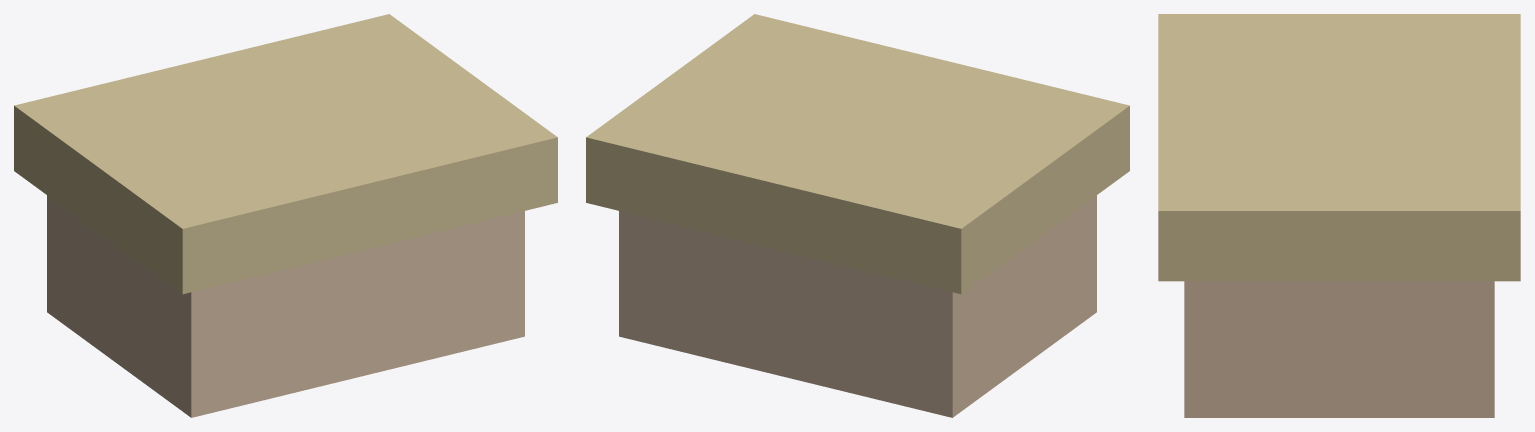
Rendered from village_house.glb.
3 views of the same model, side by side, from view 1: azimuth 30°, elevation 25°; view 2: azimuth 150°, elevation 25°; view 3: azimuth 270°, elevation 25° (orthographic). The views are drawn at different scales.
Parts seen in each view (by area): view 1: ThatchRoof_Node, Walls_Node; view 2: ThatchRoof_Node, Walls_Node; view 3: ThatchRoof_Node, Walls_Node.
Boxes of the visible parts, x1=… form: ThatchRoof_Node: x1=14, y1=14, x2=557, y2=294; Walls_Node: x1=47, y1=195, x2=524, y2=417; ThatchRoof_Node: x1=586, y1=14, x2=1129, y2=294; Walls_Node: x1=619, y1=195, x2=1096, y2=417; ThatchRoof_Node: x1=1158, y1=14, x2=1520, y2=281; Walls_Node: x1=1184, y1=281, x2=1494, y2=417.
Size of the model in its own units: 9 by 4.65 by 7.
